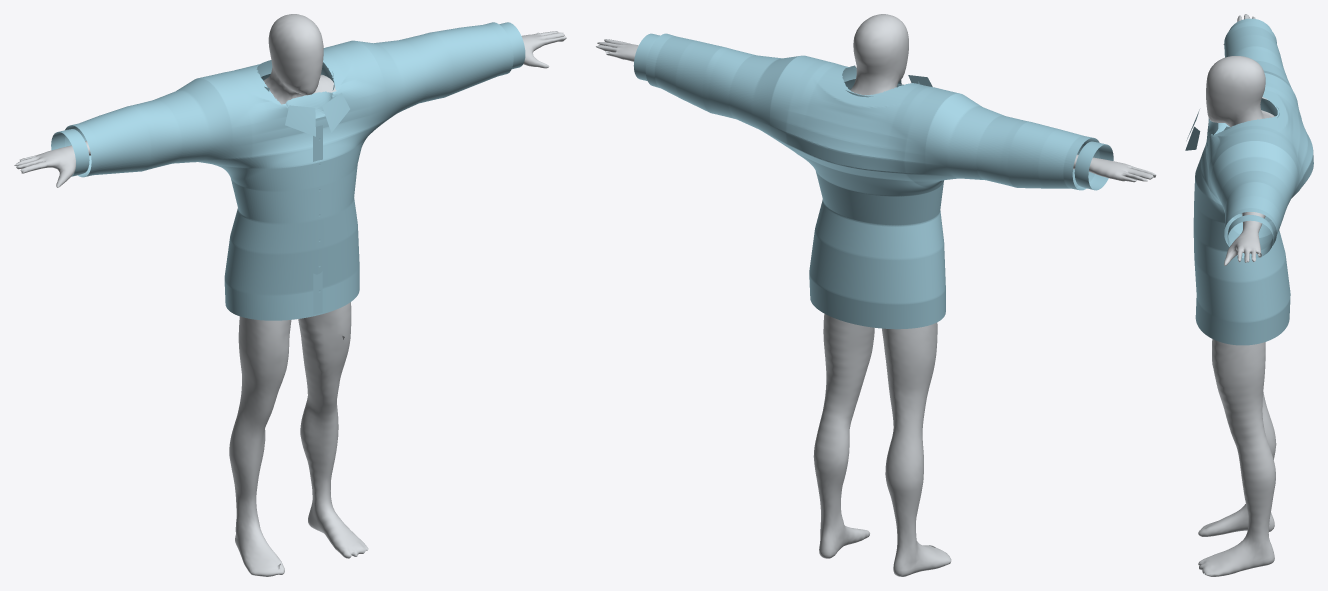
The model's file is fit.glb.
3 views of the same model, side by side, from view 1: azimuth 30°, elevation 25°; view 2: azimuth 150°, elevation 25°; view 3: azimuth 270°, elevation 25° (orthographic). The views are drawn at different scales.
Visible parts, largest first — view 1: ATEL-23 Shirt v2.4, AtelierX_mannequin_180cm; view 2: ATEL-23 Shirt v2.4, AtelierX_mannequin_180cm; view 3: ATEL-23 Shirt v2.4, AtelierX_mannequin_180cm.
Part boxes in pixels (x1,y1,x2,y2): ATEL-23 Shirt v2.4: [51, 22, 525, 320]; AtelierX_mannequin_180cm: [14, 14, 566, 576]; ATEL-23 Shirt v2.4: [633, 33, 1113, 329]; AtelierX_mannequin_180cm: [596, 14, 1156, 576]; ATEL-23 Shirt v2.4: [1185, 18, 1313, 345]; AtelierX_mannequin_180cm: [1198, 14, 1276, 576].
Bounding box in the file's own units: 1.93 × 1.8 × 0.4249.
